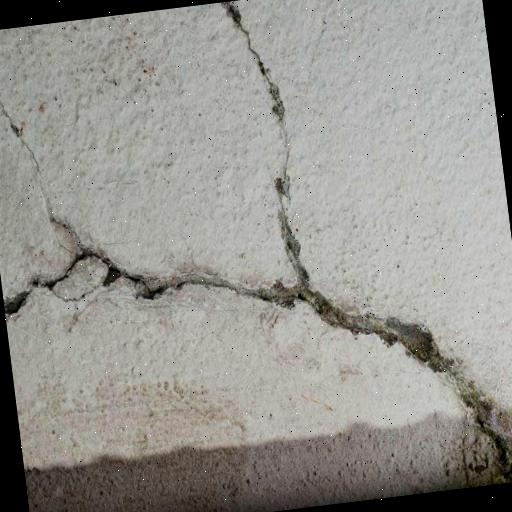spalling: (8, 0, 505, 428)
